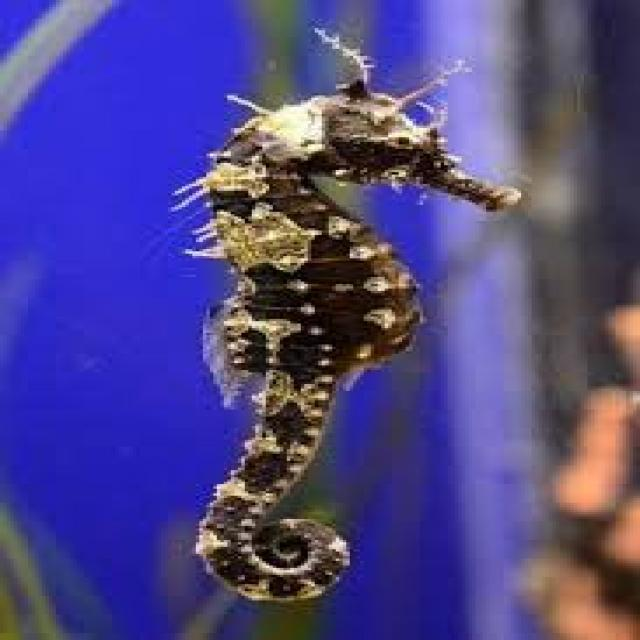SeaHorse: (196, 51, 521, 610)
